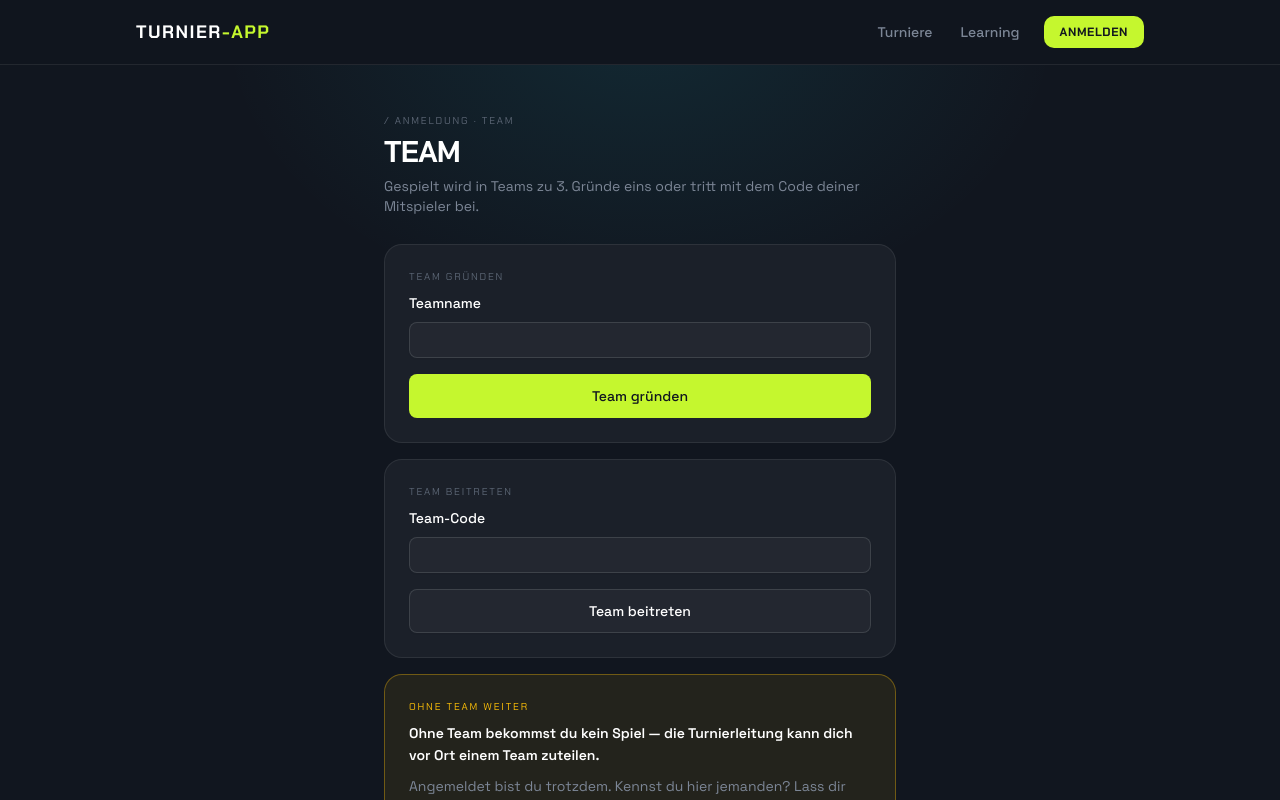
Test: TeamStep › zeigt beim Beitritt die Meldung der Datenbank statt einer eigenen
This screenshot has width=1280, height=800.
Type "zzz zzz" into the field labelled "Team-Code" at (640, 554), box 409,536 -> 871,572
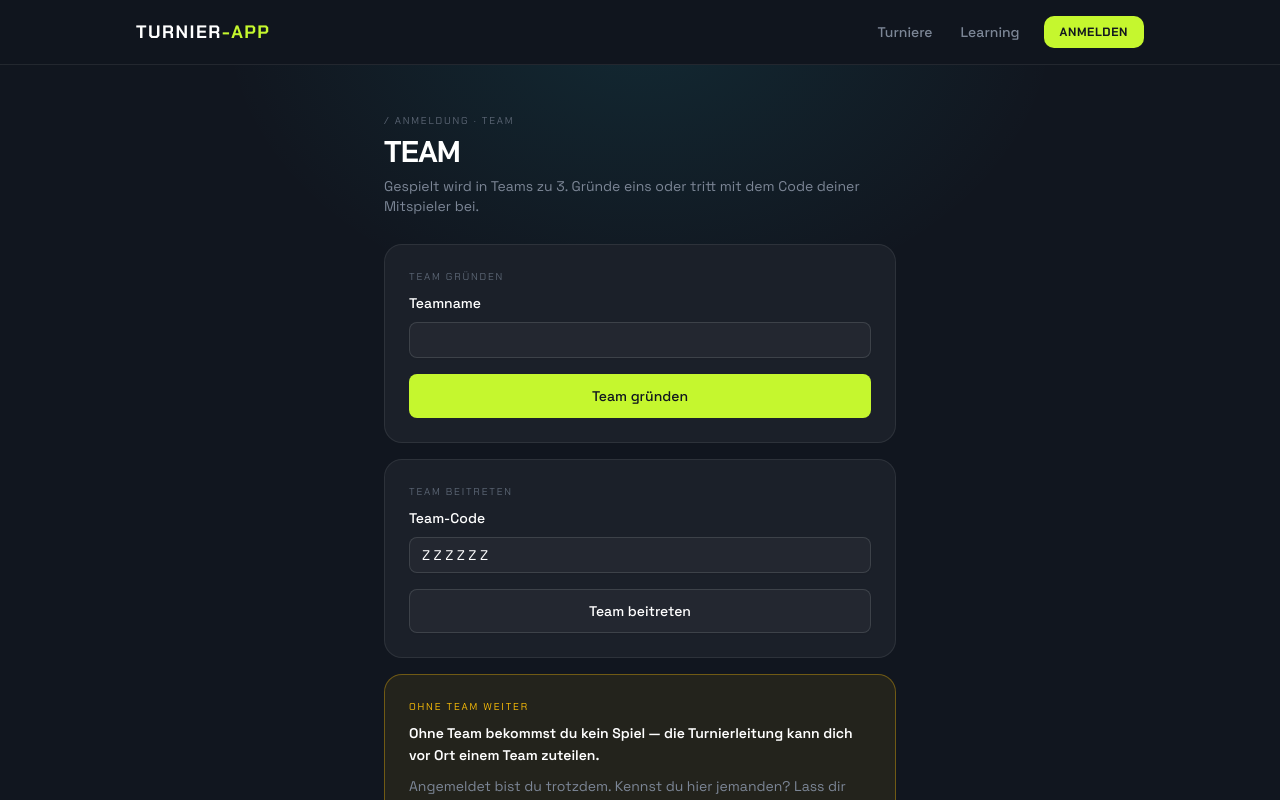
Click the button "Team beitreten" at (640, 610), box 409,588 -> 871,632
(page scrolled)
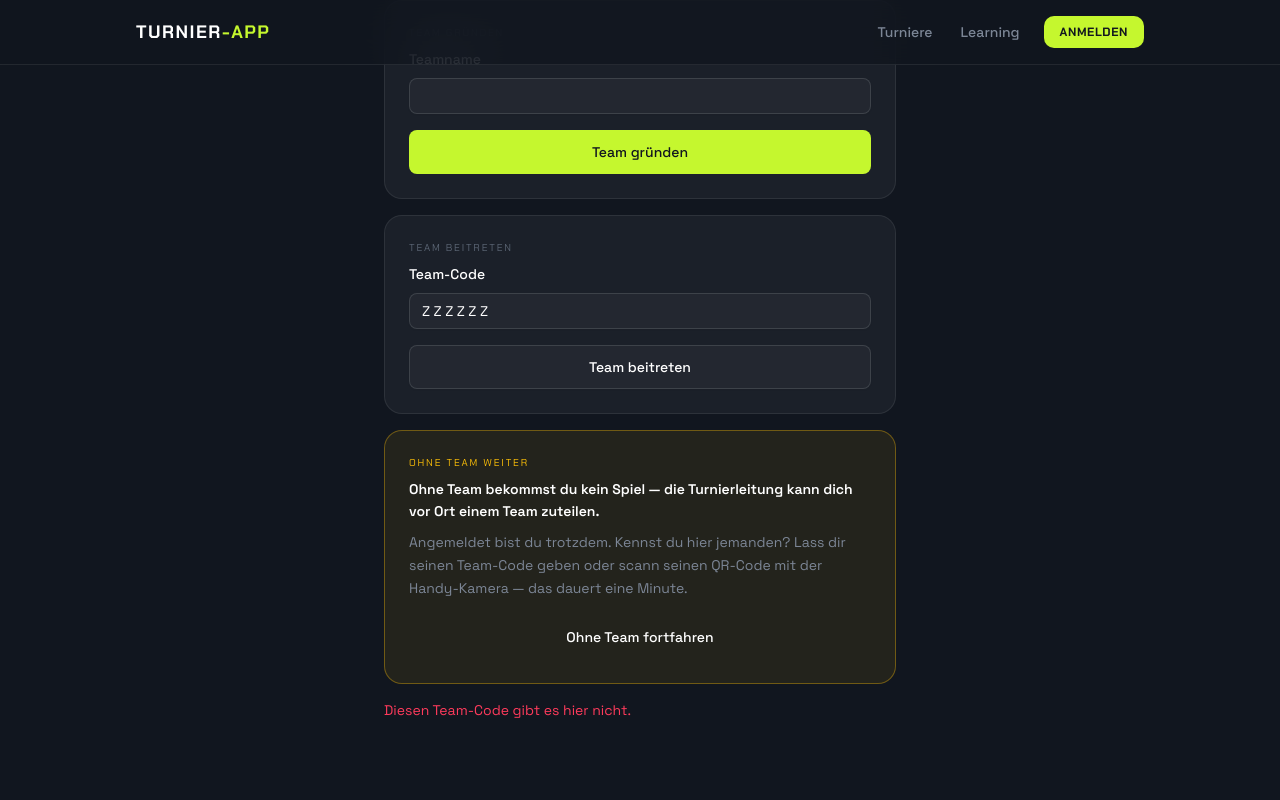
Now the text "Diesen Team-Code gibt es hier nicht." is shown, box 384,701 -> 631,719
